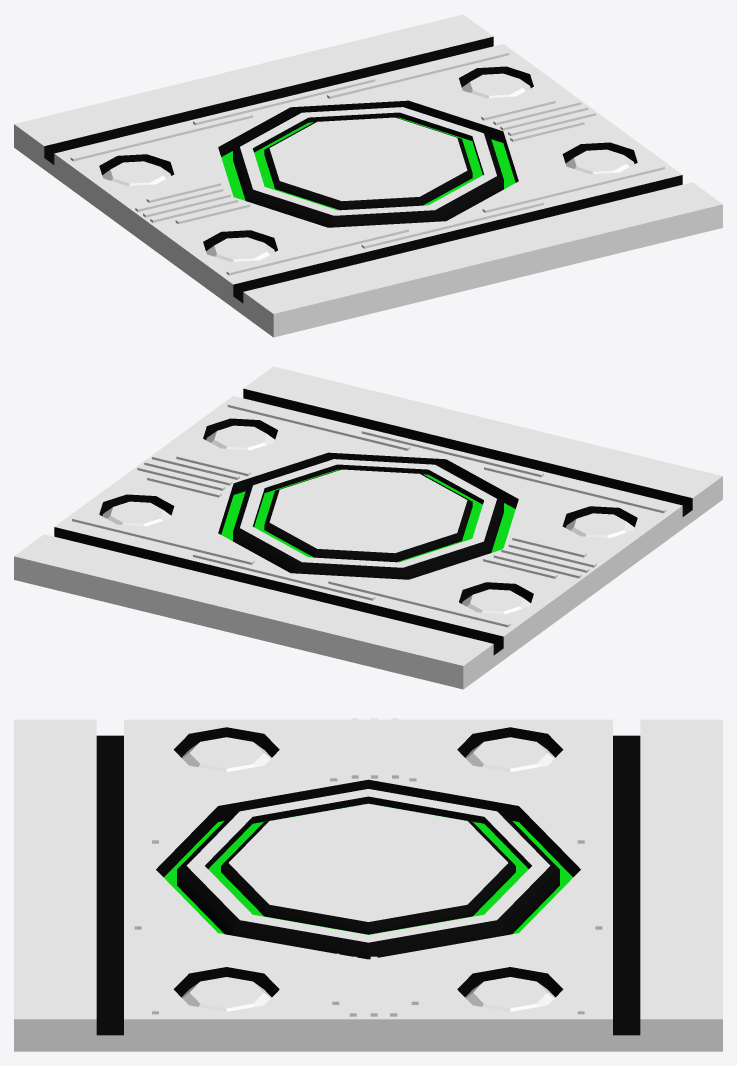
File: Panel_roof.fbx
3 views of the same model, one above another, from view 1: azimuth 30°, elevation 25°; view 2: azimuth 150°, elevation 25°; view 3: azimuth 270°, elevation 25° (orthographic). The views are drawn at different scales.
Visible parts, largest first — view 1: Cube; view 2: Cube; view 3: Cube.
Part boxes in pixels (<box>): Cube: <box>14,14,722,337</box>; Cube: <box>14,366,722,689</box>; Cube: <box>14,718,722,1051</box>.
Bounding box in the file's own units: 200 × 12.08 × 200.
